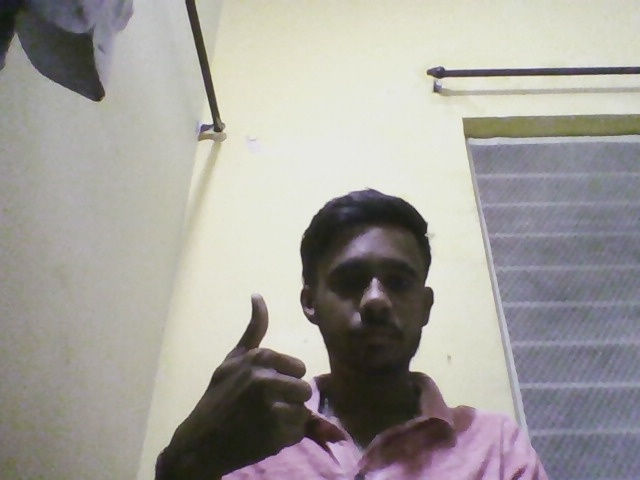yes: (166, 284, 330, 480)
